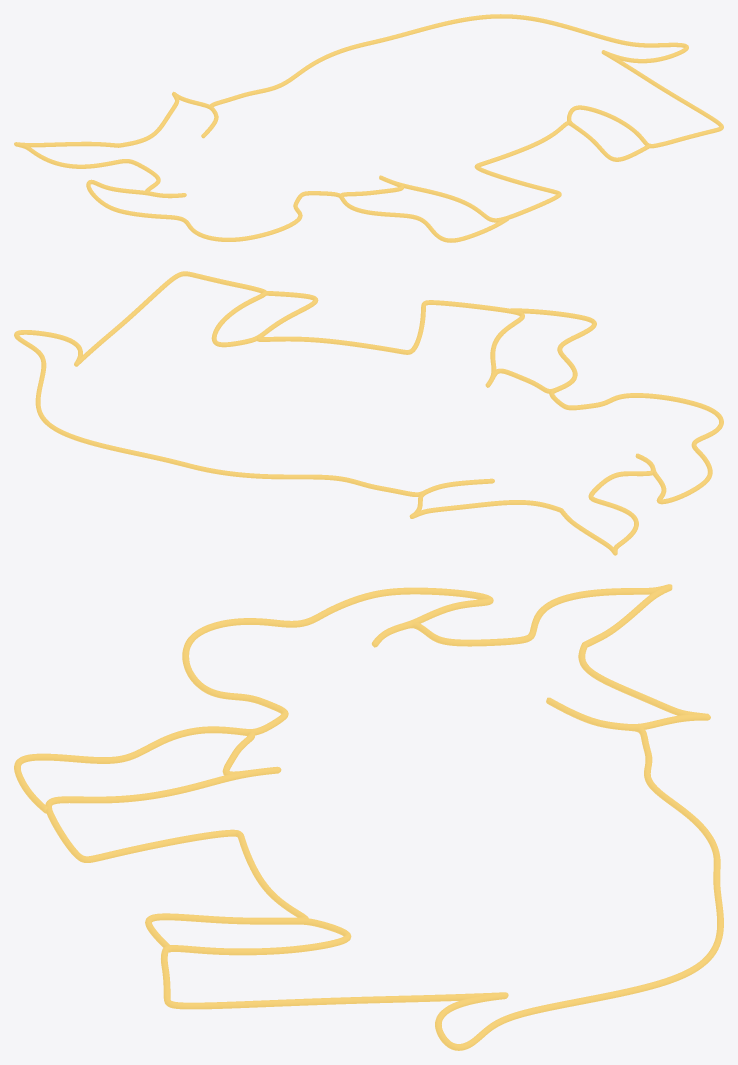
File: rhino-constellation.glb
The picture shows the model from 3 angles, top to bottom: view 1: azimuth 30°, elevation 25°; view 2: azimuth 150°, elevation 25°; view 3: azimuth 270°, elevation 25°; orthographic projection. The views are drawn at different scales.
Visible parts, largest first — view 1: NurbsPath.030; view 2: NurbsPath.030; view 3: NurbsPath.030.
Part boxes in pixels (x1=…): NurbsPath.030: x1=14, y1=14, x2=723, y2=242; NurbsPath.030: x1=14, y1=271, x2=723, y2=555; NurbsPath.030: x1=14, y1=584, x2=723, y2=1050.
Size of the model in its own units: 19.73 by 0.1239 by 12.8.
